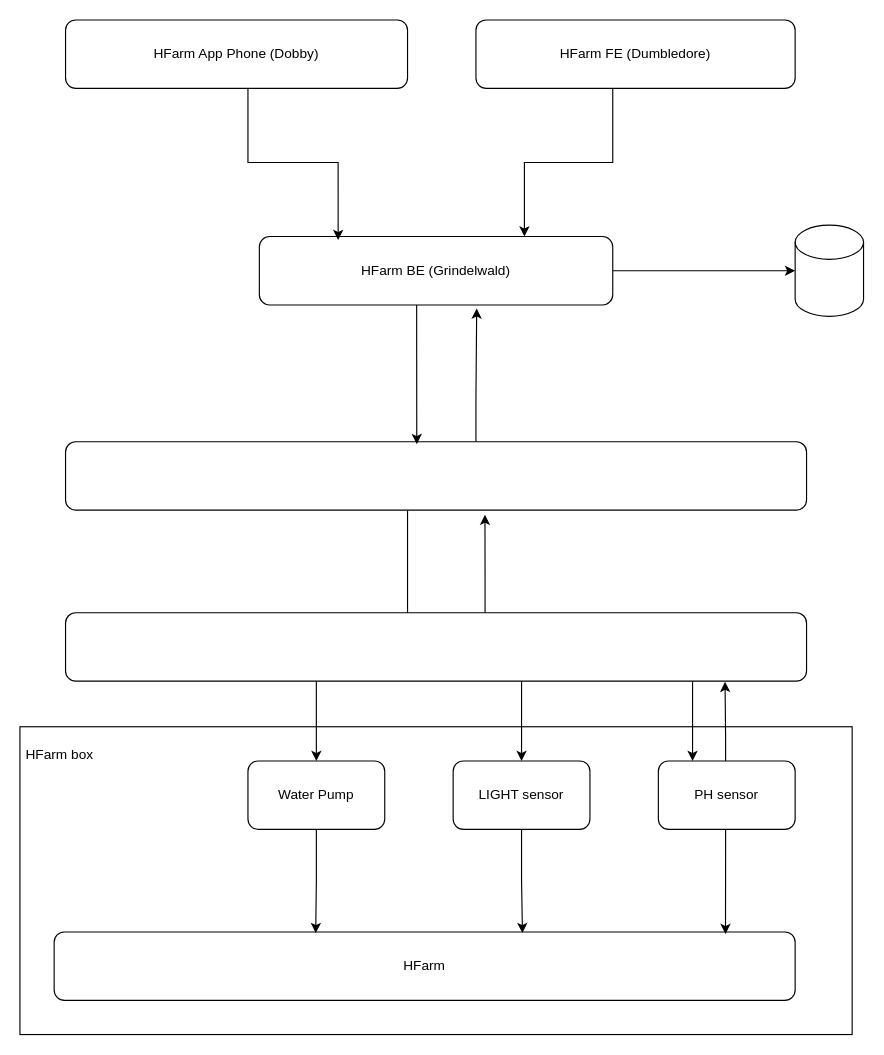
This 884x1055 diagram has some shape labels left out. The shapes that lost their labels are listed below. From the top down, each one's centre as x and y in pixels, then its label:
pixel 829 270: DB
pixel 435 475: Rasbery (Snape)
pixel 435 646: Arduino (Malfoy)
